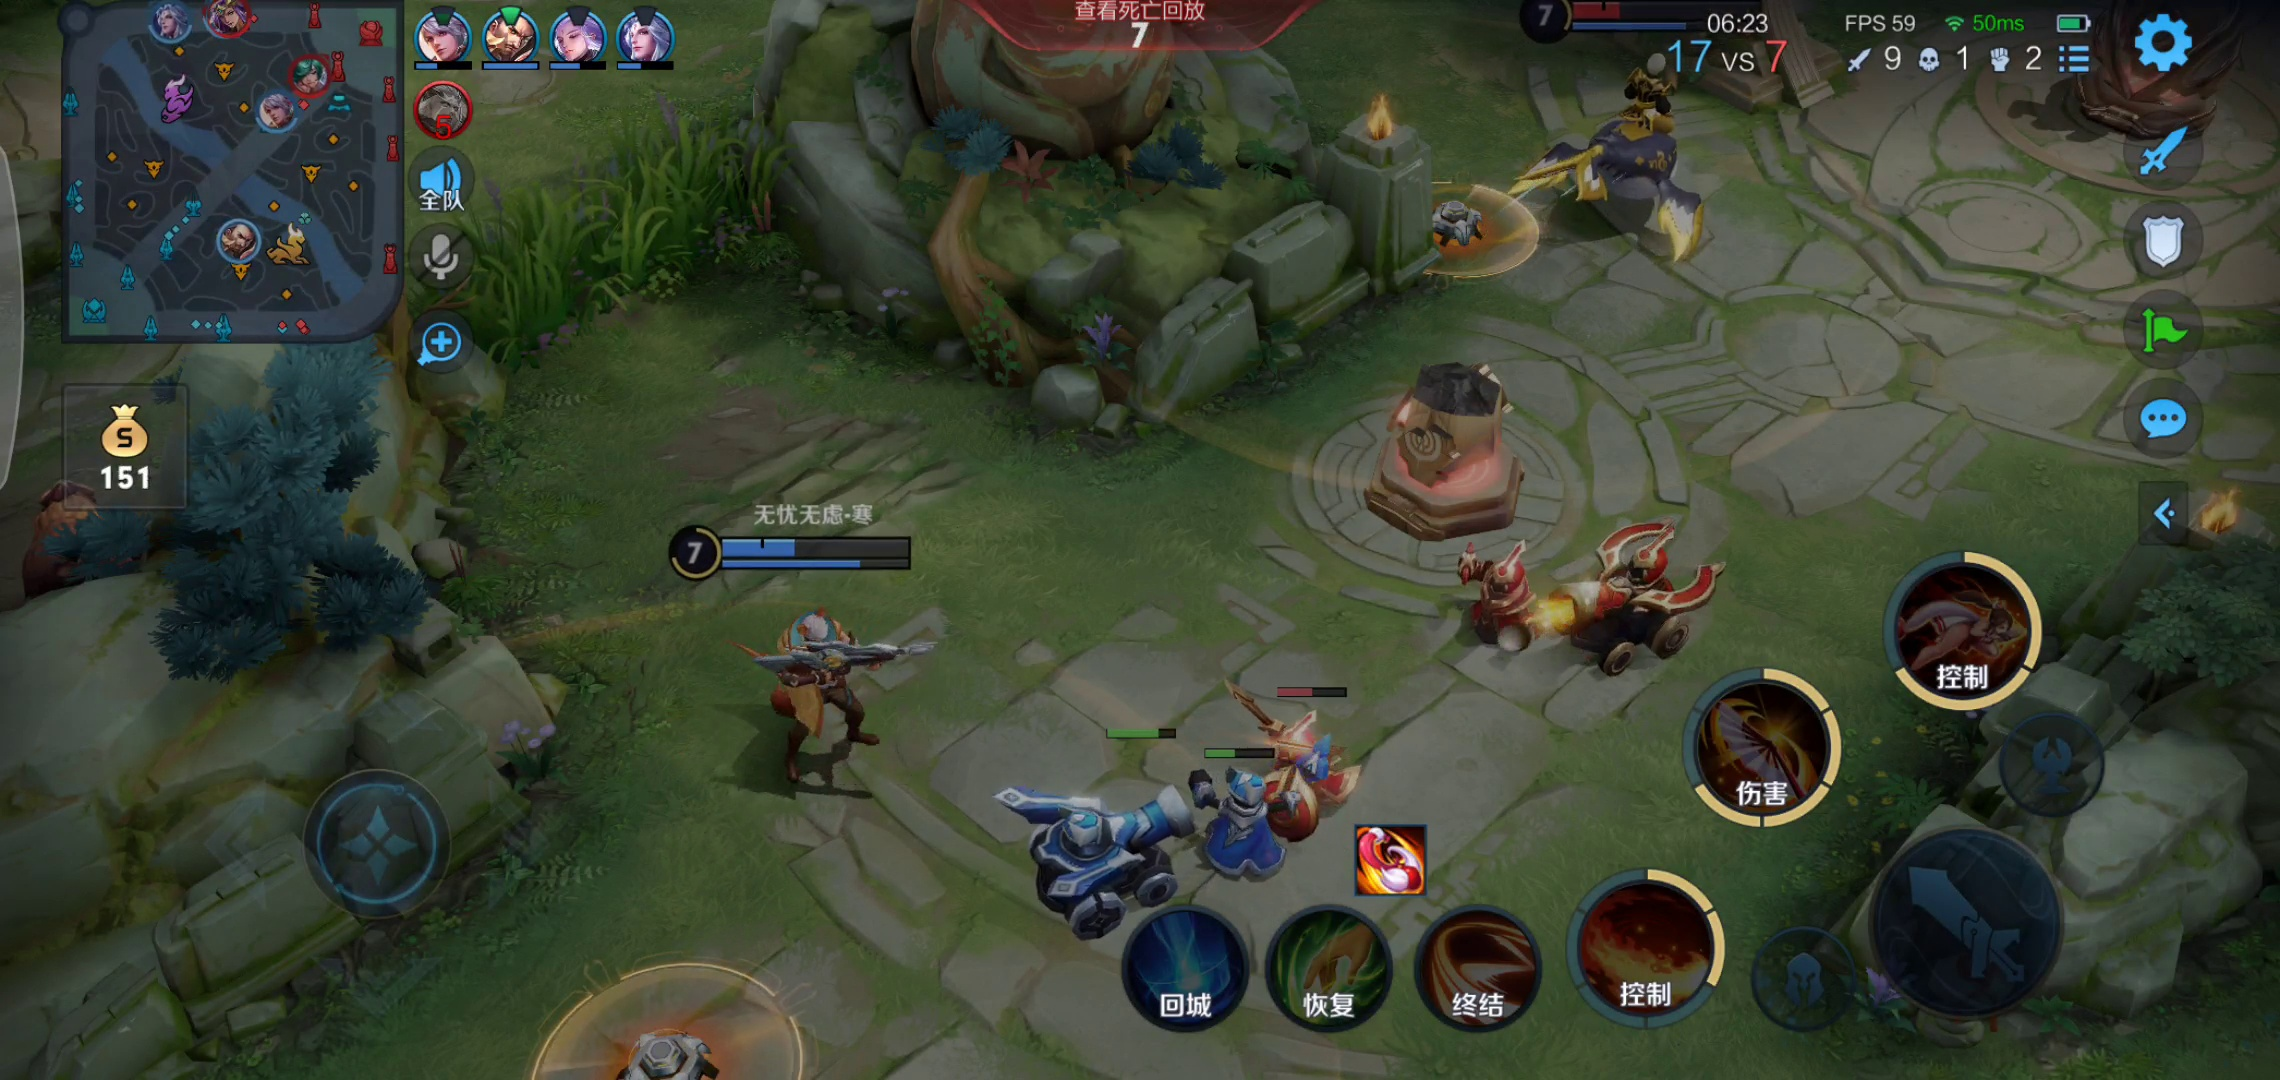grass: (433, 134, 787, 315)
hero: (1538, 58, 1723, 256), (733, 600, 906, 778)
soldier: (976, 749, 1181, 908), (1560, 536, 1730, 686), (1261, 708, 1374, 847), (1426, 552, 1550, 674), (1188, 769, 1298, 888)
tower: (1348, 347, 1569, 541)
